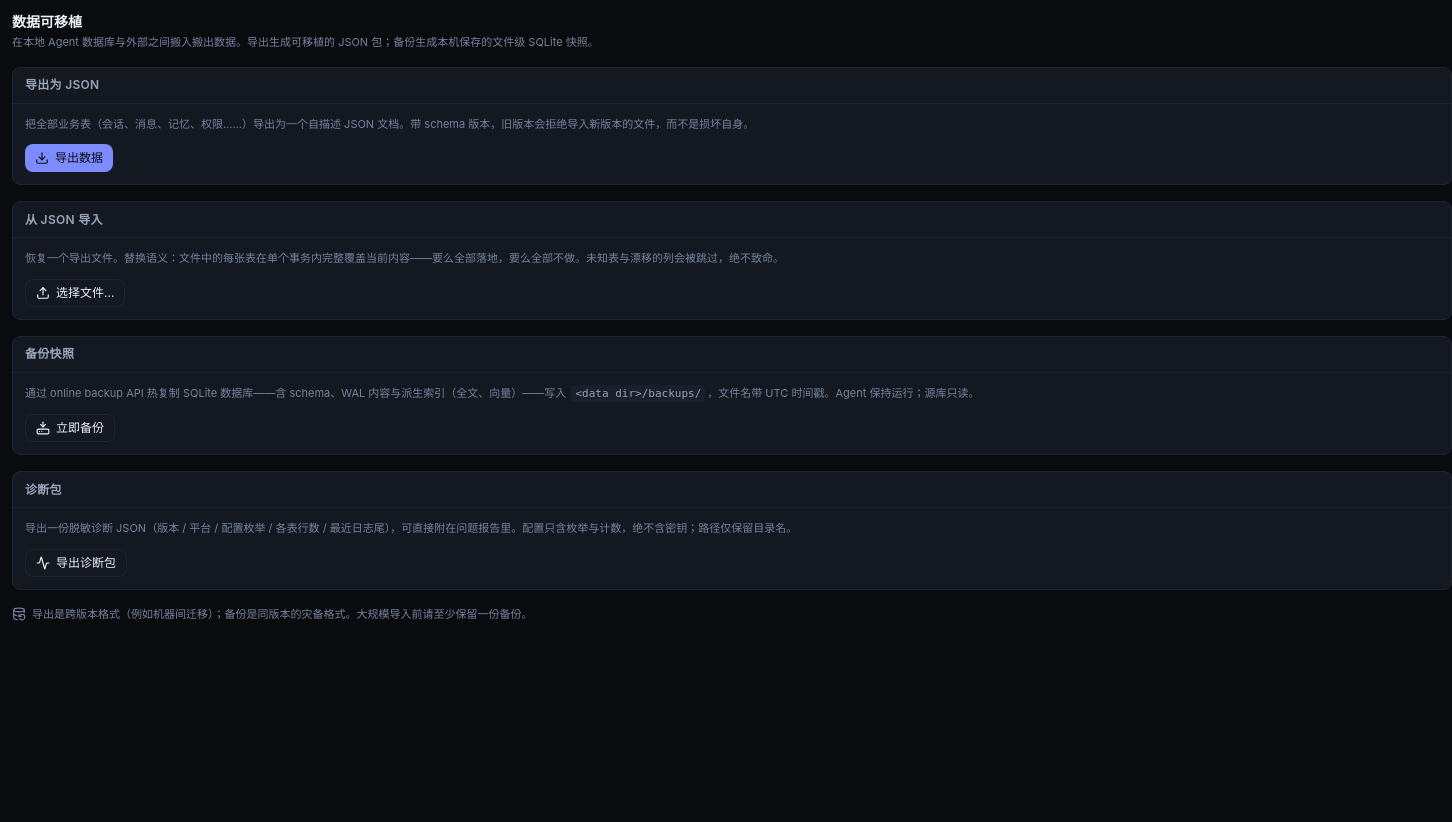
Scenario: DataTab › exports: downloads a blob and reports the row total
Click the button with test id "settings-data-export".
click(69, 158)  # box top-left (25, 144), bottom-right (113, 172)
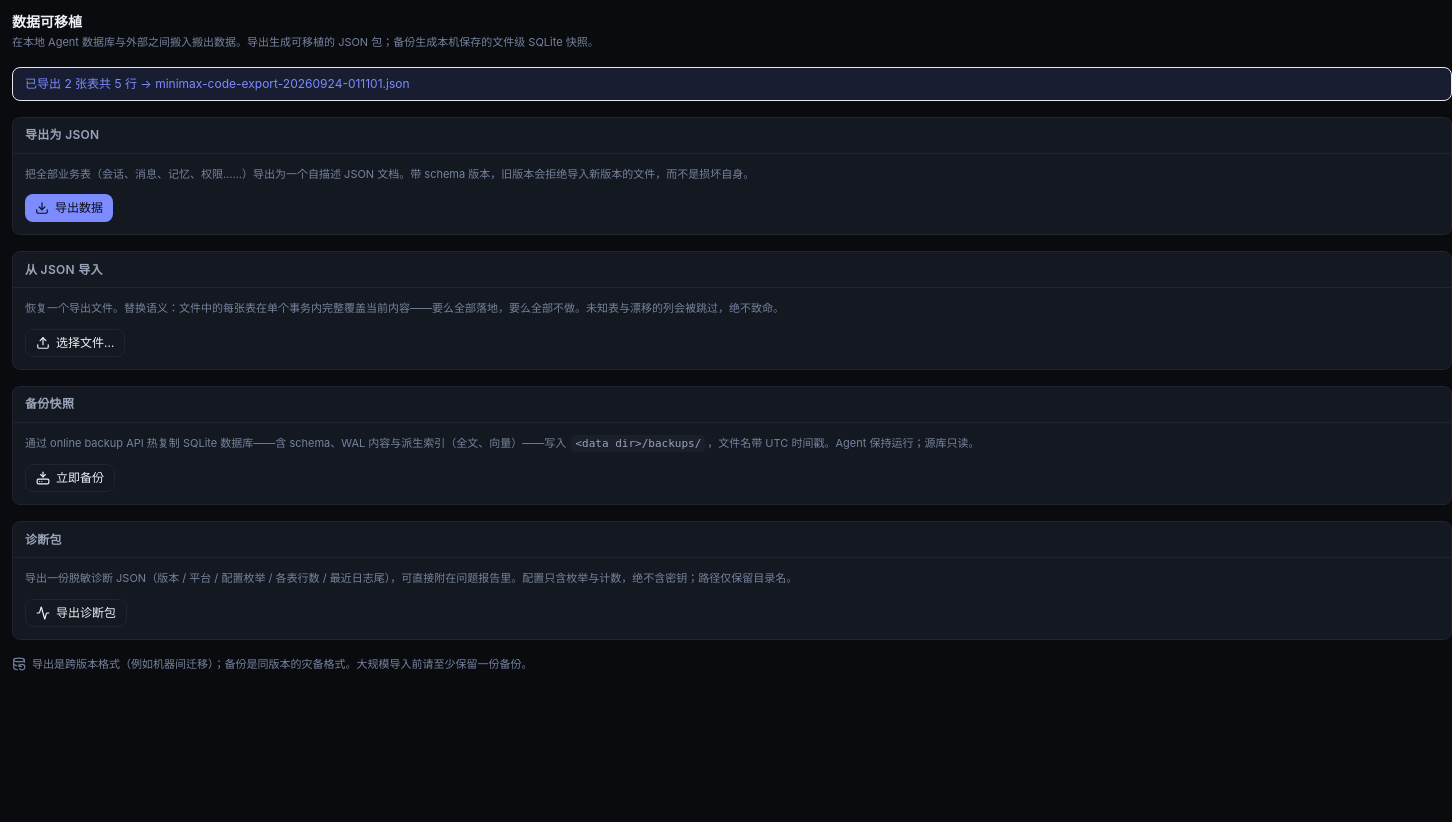
Check: the message with test id "settings-data-feedback" shows "已导出 2 张表共 5 行", box top-left (25, 76), bottom-right (410, 90)
